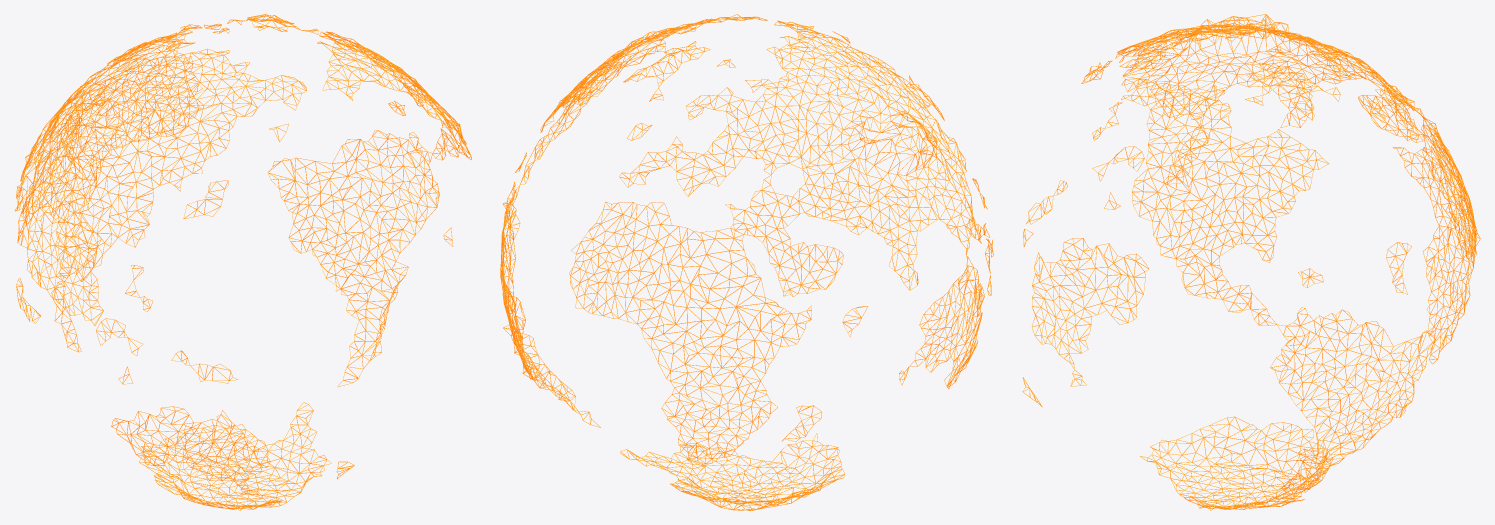
The model's file is globe.glb.
3 renders of one model, left to right at view 1: azimuth 30°, elevation 25°; view 2: azimuth 150°, elevation 25°; view 3: azimuth 270°, elevation 25°, orthographic.
Visible parts, largest first — view 1: Icosphere.002; view 2: Icosphere.002; view 3: Icosphere.002.
Boxes of the visible parts, x1=… form: Icosphere.002: x1=14, y1=14, x2=471, y2=510; Icosphere.002: x1=500, y1=14, x2=993, y2=510; Icosphere.002: x1=1022, y1=14, x2=1480, y2=510.
Bounding box in the file's own units: 25.69 × 25.57 × 23.97.
